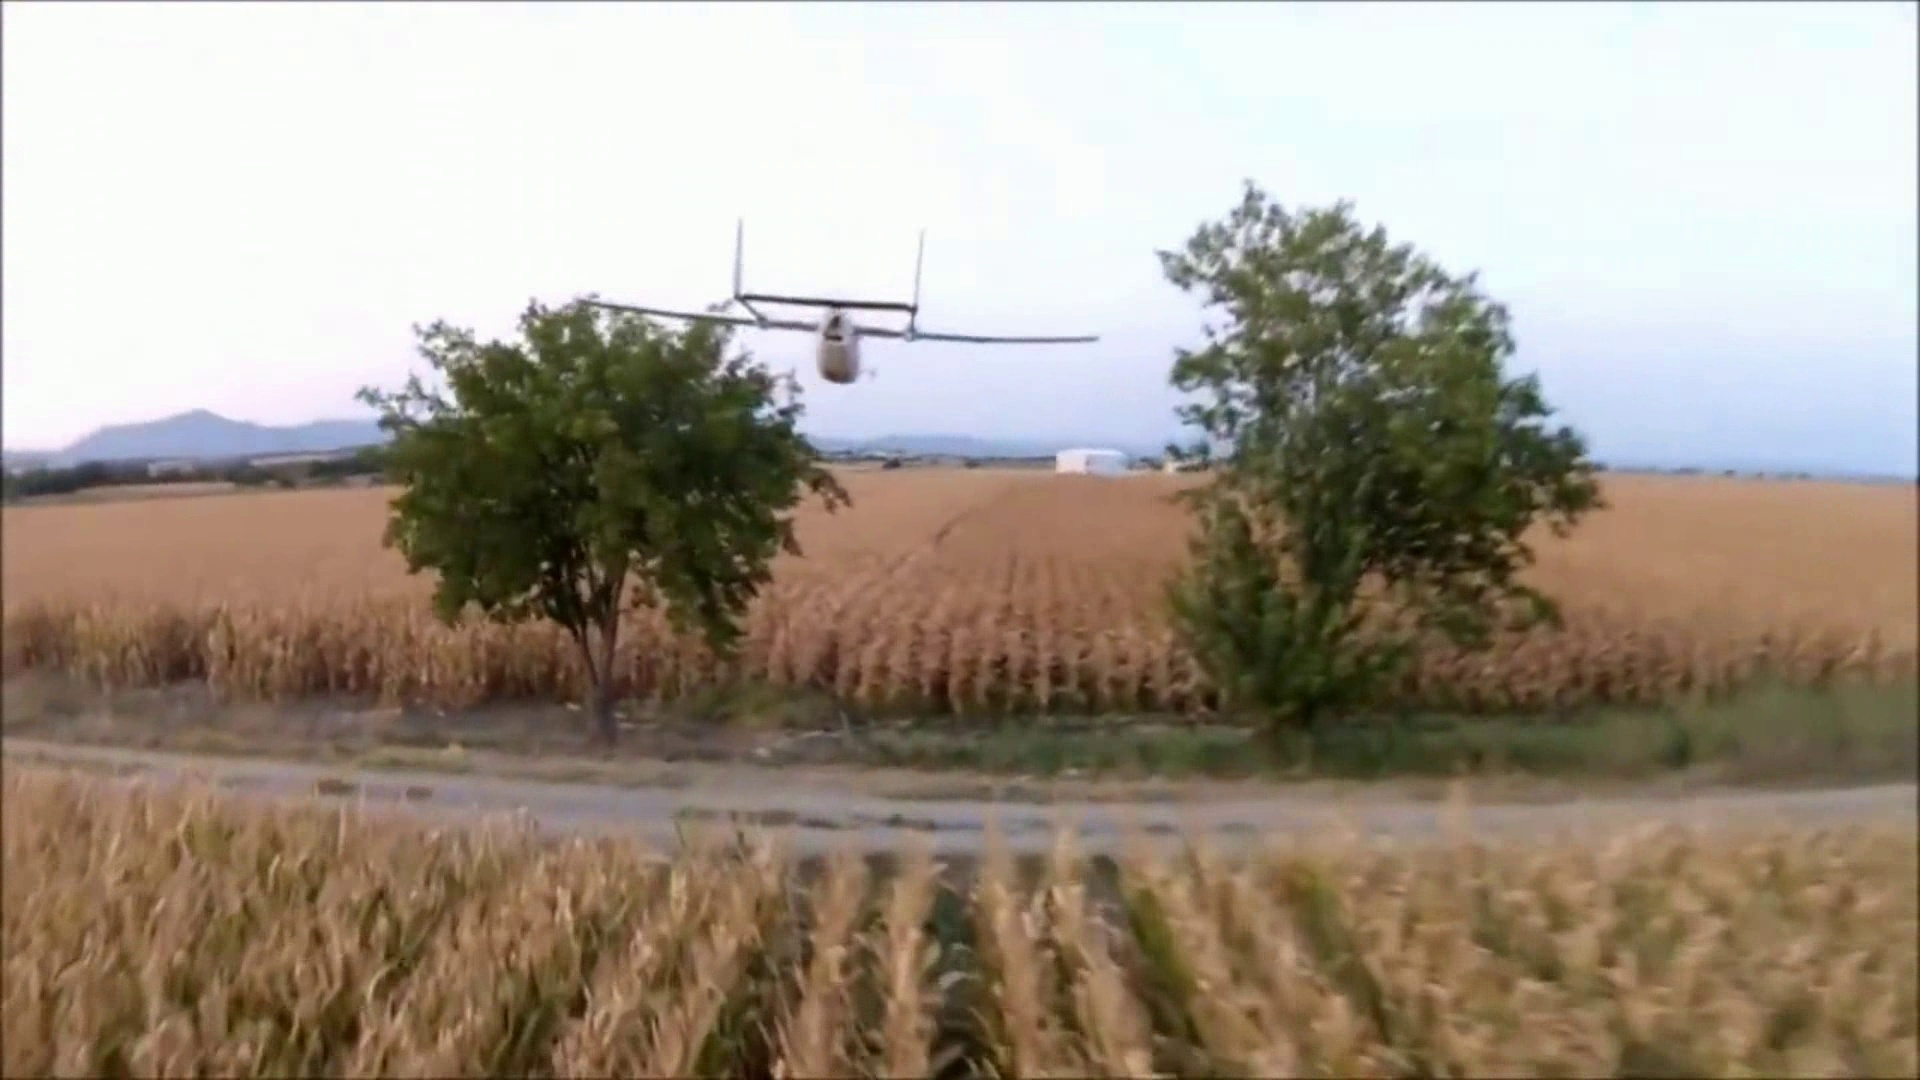airplane: (580, 218, 1104, 389)
